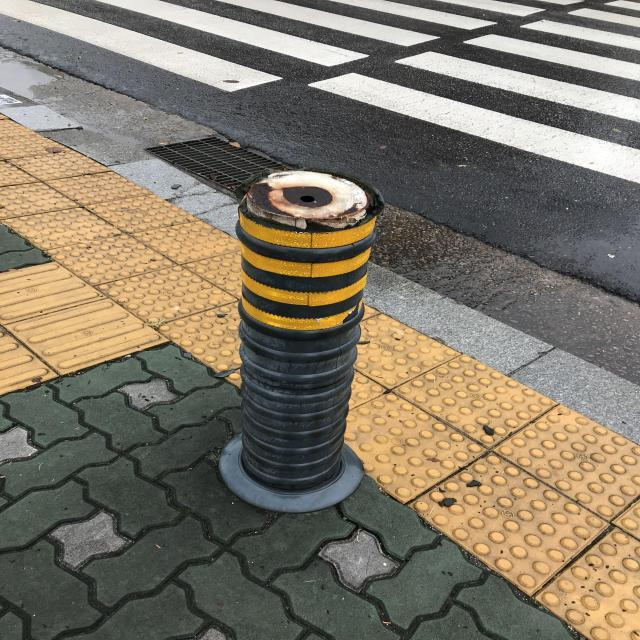pole: (232, 166, 378, 507)
